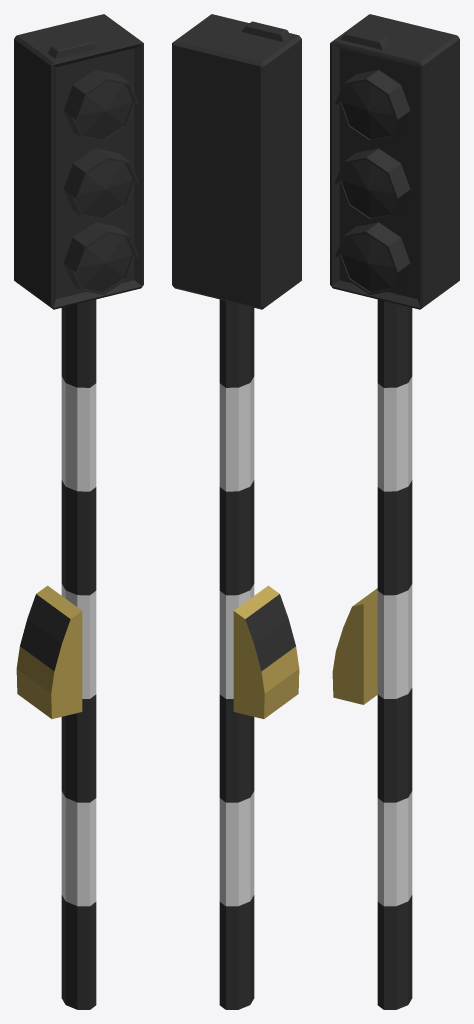
File: traffic.fbx
3 views of the same model, side by side, from view 1: azimuth 30°, elevation 25°; view 2: azimuth 150°, elevation 25°; view 3: azimuth 330°, elevation 25° (orthographic).
Parts seen in each view (by area): view 1: Trafficpole, Trafficbox, Trafficlight; view 2: Trafficbox, Trafficpole; view 3: Trafficpole, Trafficbox, Trafficlight.
Part boxes in pixels (x1=…): Trafficpole: x1=16, y1=299, x2=96, y2=1009; Trafficbox: x1=14, y1=14, x2=143, y2=309; Trafficlight: x1=63, y1=70, x2=139, y2=294; Trafficbox: x1=172, y1=14, x2=301, y2=309; Trafficpole: x1=219, y1=299, x2=299, y2=1009; Trafficpole: x1=332, y1=299, x2=412, y2=1009; Trafficbox: x1=330, y1=14, x2=459, y2=309; Trafficlight: x1=334, y1=70, x2=410, y2=294.
Size of the model in its own units: 56.5 by 563 by 51.46.
